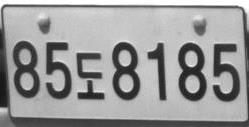1: (145, 42, 173, 101)
5: (212, 42, 240, 103), (44, 41, 72, 99)
8: (177, 41, 208, 102), (111, 40, 140, 101), (11, 39, 40, 98)
도: (75, 51, 104, 100)
